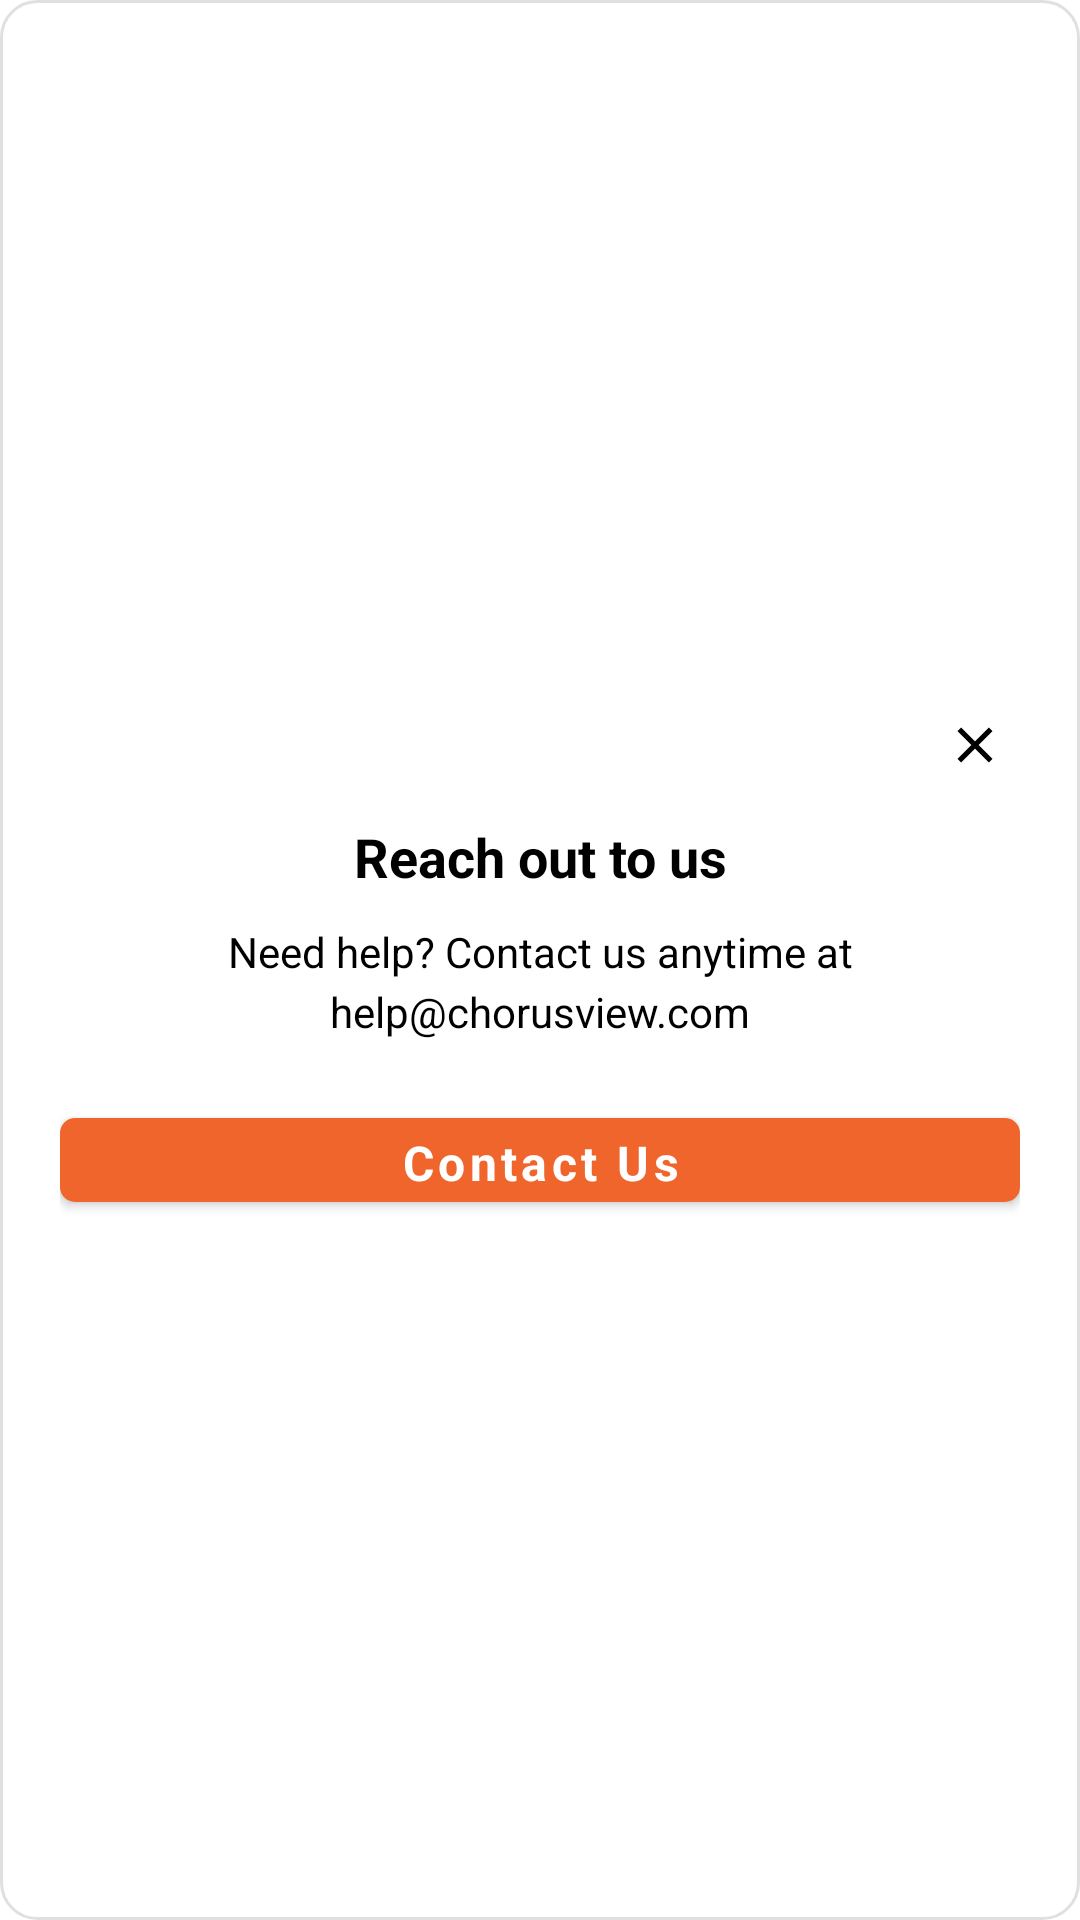

Named icons in this screenshot (1080*1920) and their centers, [x,y]:
close: [975,745]
